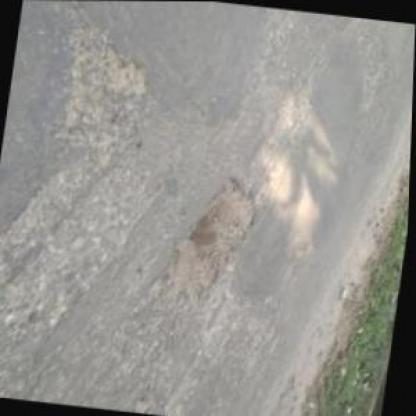pothole: (160, 170, 262, 314), (93, 40, 155, 98)
